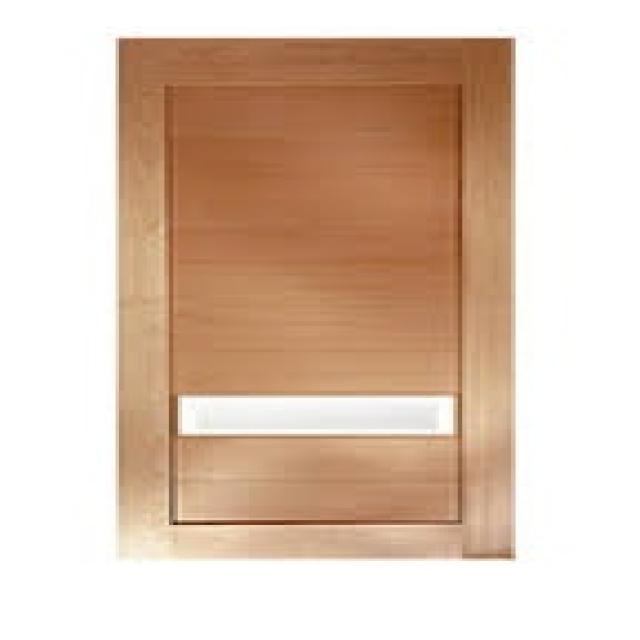door: (113, 37, 518, 562)
